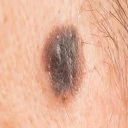Melanoma: (44, 27, 81, 99)
